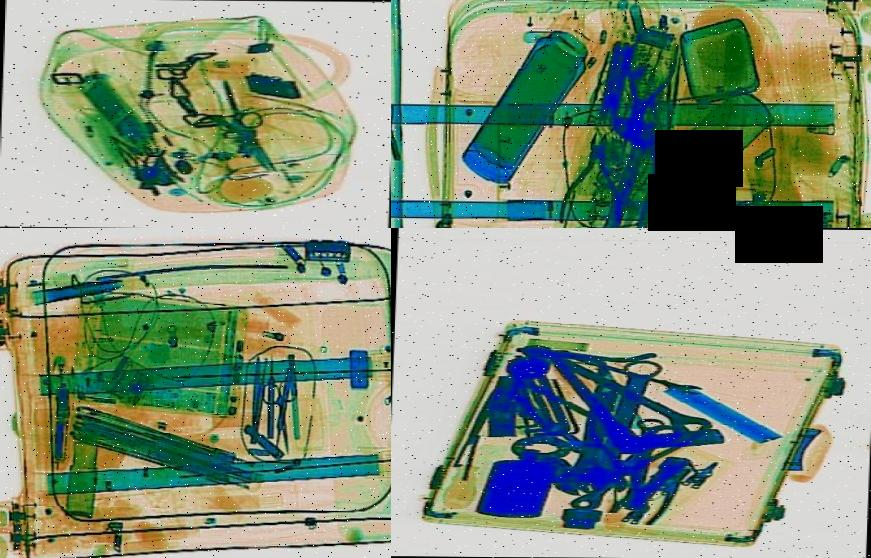Pliers: (557, 130, 647, 227), (603, 38, 682, 140), (611, 448, 703, 528)
Scissors: (259, 377, 310, 454), (200, 78, 268, 132)
Wrench: (511, 338, 721, 441), (585, 357, 667, 487), (556, 379, 632, 496), (584, 132, 660, 228), (611, 416, 674, 515), (619, 142, 674, 228), (604, 361, 706, 396)
